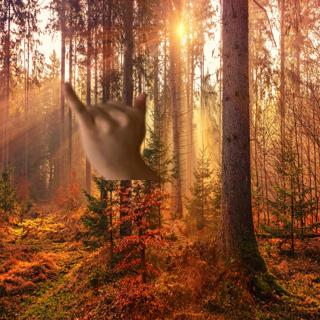HAVE: (53, 73, 165, 173)
